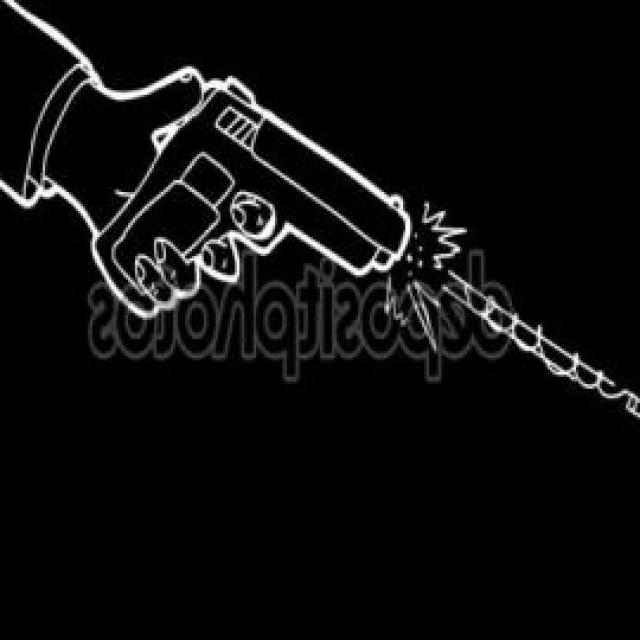pistol: (86, 71, 412, 341)
